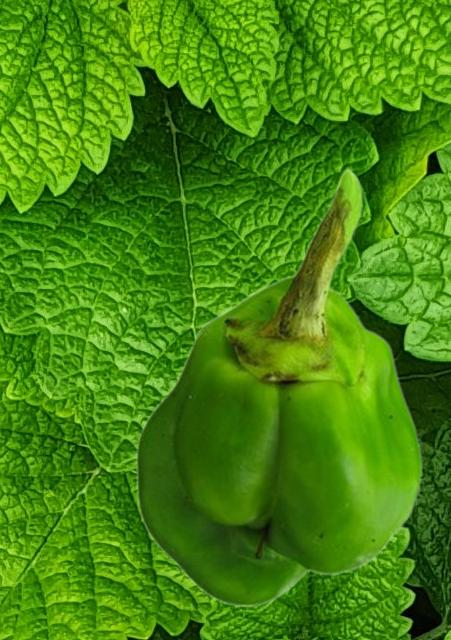bell_pepper: (134, 167, 422, 606)
